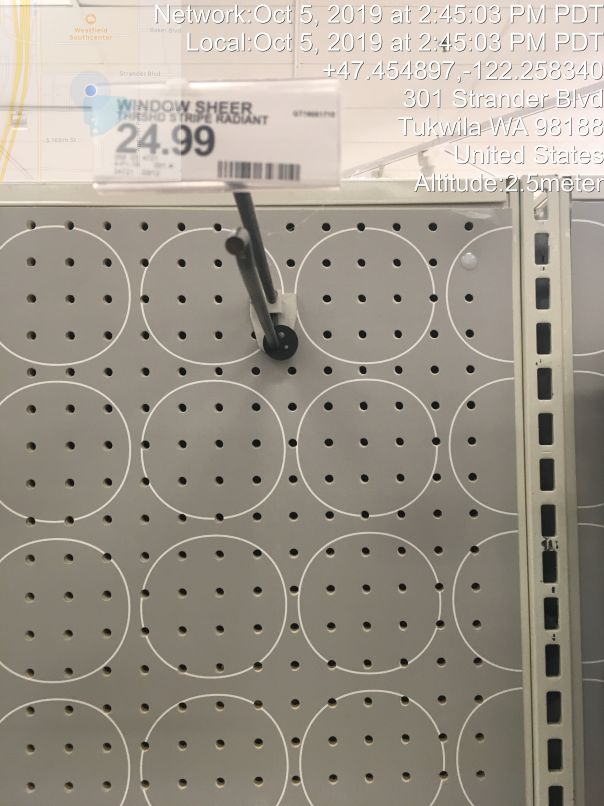Label: (78, 73, 354, 199)
Location: (385, 79, 604, 170)
Time: (147, 1, 604, 57)
Void: (76, 225, 395, 781)
